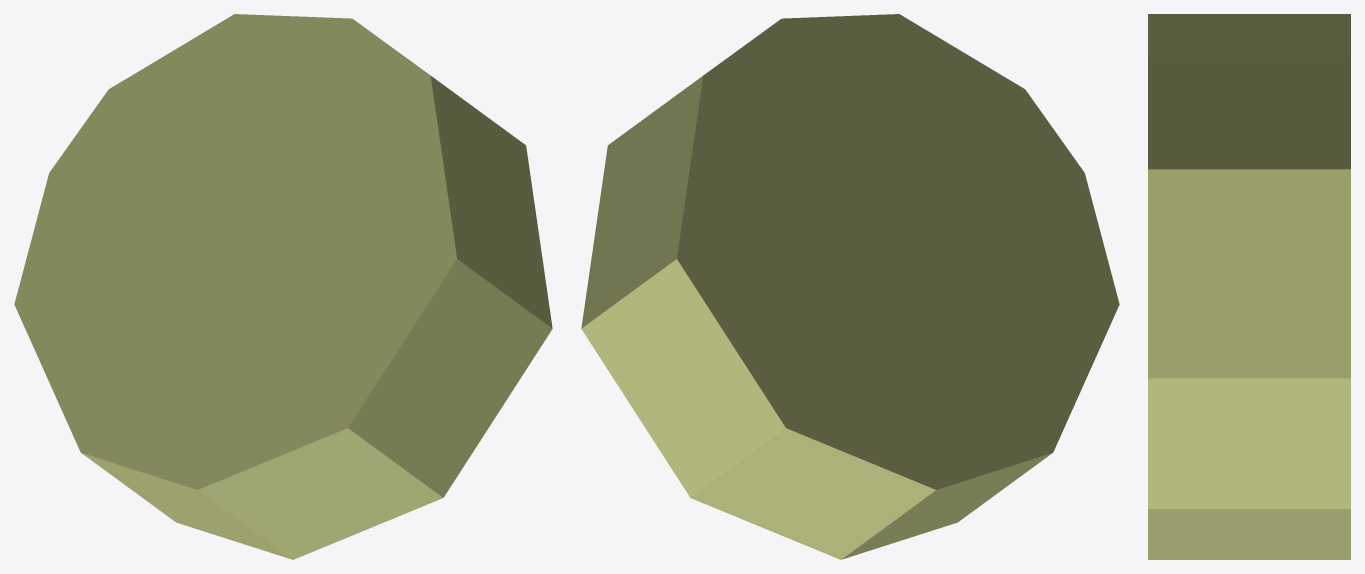
3 views of the same model, side by side, from view 1: azimuth 30°, elevation 25°; view 2: azimuth 150°, elevation 25°; view 3: azimuth 270°, elevation 25° (orthographic). The views are drawn at different scales.
Parts seen in each view (by area): view 1: 0_3_1_3_3_0_0_1_2; view 2: 0_3_1_3_3_0_0_1_2; view 3: 0_3_1_3_3_0_0_1_2.
Boxes of the visible parts, x1,y1,x2,y2 form: 0_3_1_3_3_0_0_1_2: [14, 14, 552, 559]; 0_3_1_3_3_0_0_1_2: [581, 14, 1119, 559]; 0_3_1_3_3_0_0_1_2: [1148, 14, 1350, 559].
Bounding box in the file's own units: 16.06 × 16.18 × 6.
